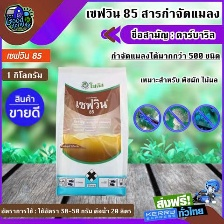insecticide: (48, 62, 130, 200)
